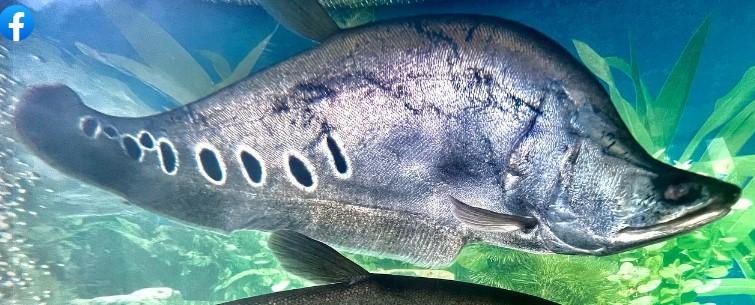Knifefish: (11, 11, 740, 285)
